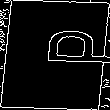P_W: (5, 35, 105, 75)
